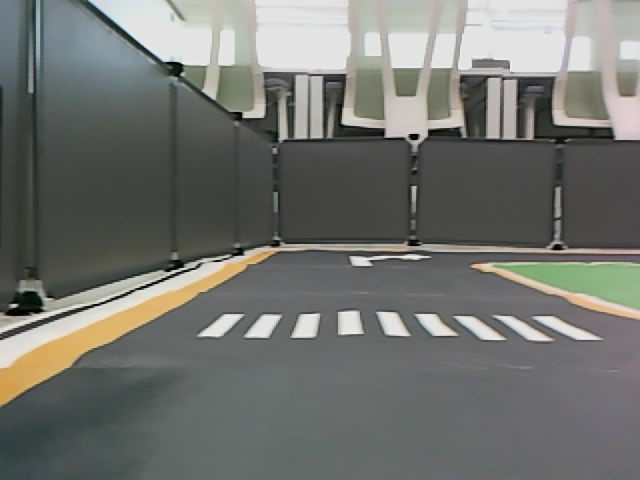crosswalk: (196, 311, 605, 346)
